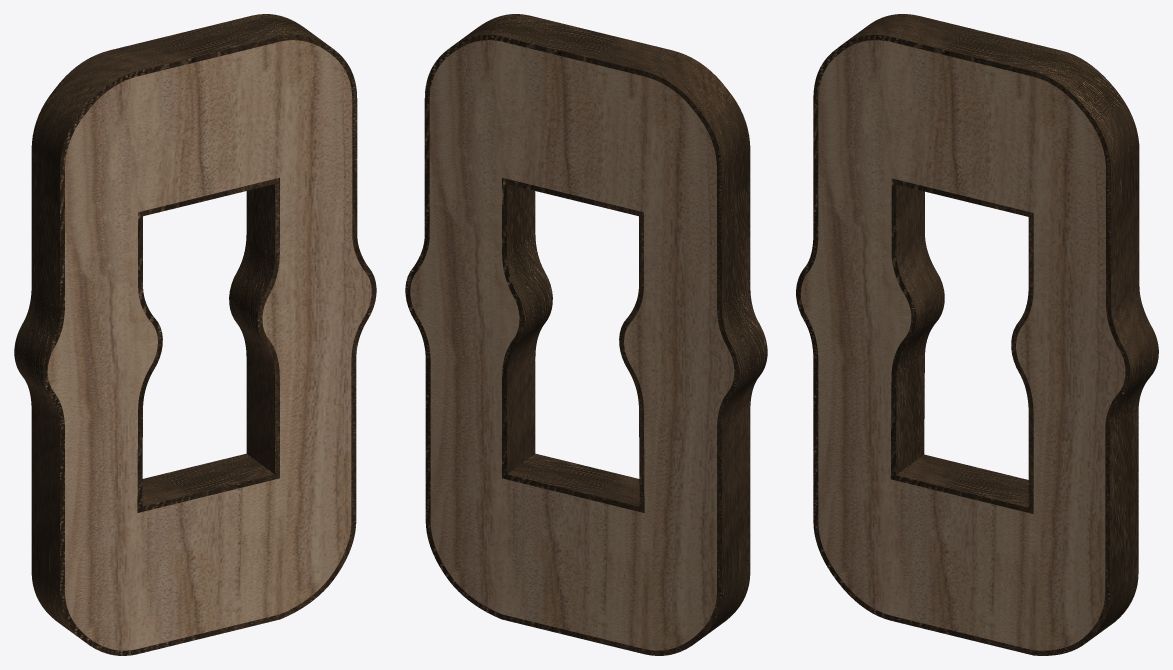
3 views of the same model, side by side, from view 1: azimuth 30°, elevation 25°; view 2: azimuth 150°, elevation 25°; view 3: azimuth 330°, elevation 25° (orthographic).
Parts seen in each view (by area): view 1: O, O_outline; view 2: O, O_outline; view 3: O, O_outline.
Part boxes in pixels (x1,y1,x2,y2): O: [47, 40, 371, 650]; O_outline: [14, 14, 376, 655]; O: [410, 40, 734, 650]; O_outline: [405, 14, 767, 655]; O: [801, 40, 1125, 650]; O_outline: [796, 14, 1158, 655].
Bounding box in the file's own units: 67.8 × 113 × 10.
2 materials, 2 textured.
